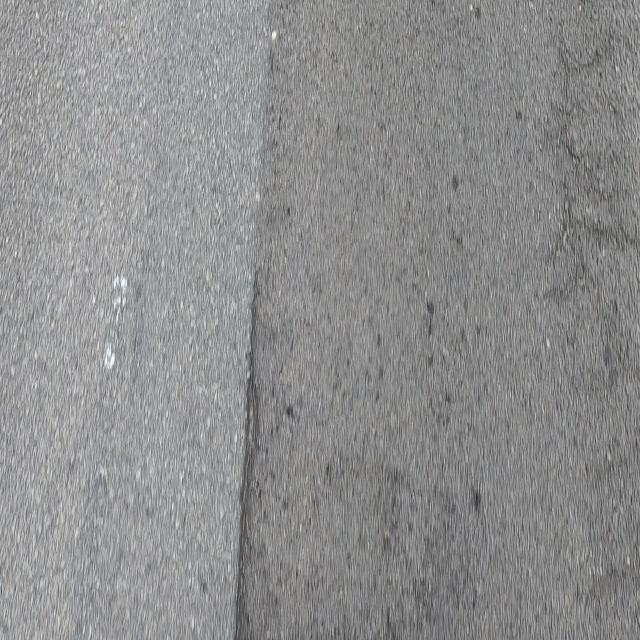Retak-Memanjang: (228, 279, 263, 640)
